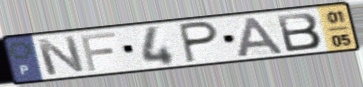4: (140, 25, 178, 68)
A: (236, 16, 287, 59)
B: (274, 11, 324, 54)
F: (78, 31, 119, 73)
N: (34, 34, 89, 77)
P: (177, 20, 221, 65)
